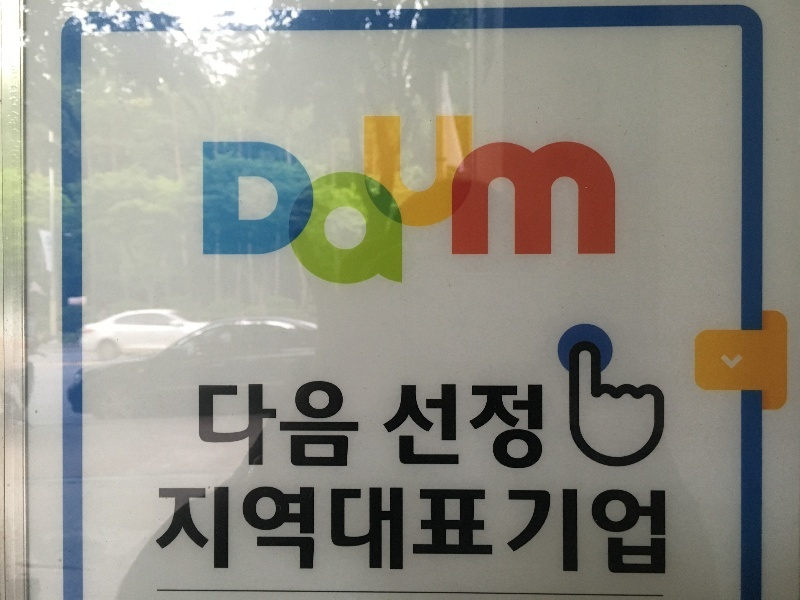text: (209, 112, 224, 295), (225, 112, 240, 295), (241, 112, 256, 295), (257, 112, 272, 295), (273, 112, 288, 295), (289, 112, 304, 295), (305, 112, 320, 295), (321, 112, 336, 295), (337, 112, 352, 295), (353, 112, 368, 295), (369, 112, 384, 295), (385, 112, 400, 295), (401, 112, 416, 295), (417, 112, 432, 295), (433, 112, 448, 295), (449, 112, 464, 295), (465, 112, 480, 295), (481, 112, 496, 295), (497, 112, 512, 295), (513, 112, 528, 295), (529, 112, 544, 295), (545, 112, 560, 295), (561, 112, 576, 295), (577, 112, 592, 295), (593, 112, 608, 295), (609, 112, 621, 295), (529, 379, 545, 474), (161, 485, 176, 580), (177, 485, 192, 580), (193, 485, 208, 580), (209, 485, 224, 580), (225, 485, 240, 580), (241, 485, 256, 580), (257, 485, 272, 580), (273, 485, 288, 580), (289, 485, 304, 580), (305, 485, 320, 580), (321, 485, 336, 580), (337, 485, 352, 580), (353, 485, 368, 580), (369, 485, 384, 580), (385, 485, 400, 580), (401, 485, 416, 580), (417, 485, 432, 580), (433, 485, 448, 580), (449, 485, 464, 580), (465, 485, 480, 580), (481, 485, 496, 580), (497, 485, 512, 580), (513, 485, 528, 580), (529, 485, 544, 580), (545, 485, 560, 580), (561, 485, 576, 580), (577, 485, 592, 580), (593, 485, 608, 580), (609, 485, 624, 580), (625, 485, 640, 580), (641, 485, 656, 580), (385, 379, 400, 474), (401, 379, 416, 474), (417, 379, 432, 474), (433, 379, 448, 474), (449, 379, 464, 474), (465, 379, 480, 474), (481, 379, 496, 474), (497, 379, 512, 474), (513, 379, 528, 474), (209, 380, 224, 471), (225, 380, 240, 471), (241, 380, 256, 471), (257, 380, 272, 471), (273, 380, 288, 471), (289, 380, 304, 471), (305, 380, 320, 471), (321, 380, 336, 471), (337, 380, 352, 471), (353, 380, 366, 471), (657, 485, 668, 580), (203, 112, 208, 295), (198, 380, 208, 471), (153, 485, 160, 580)
